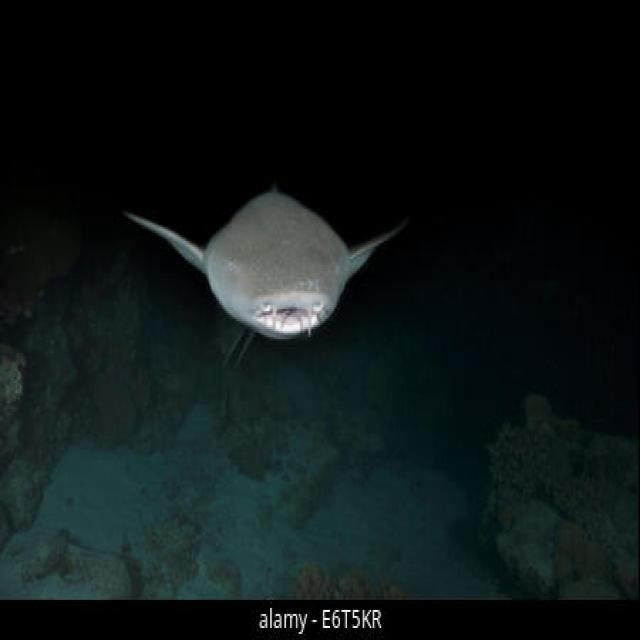Shark: (110, 127, 422, 356)
